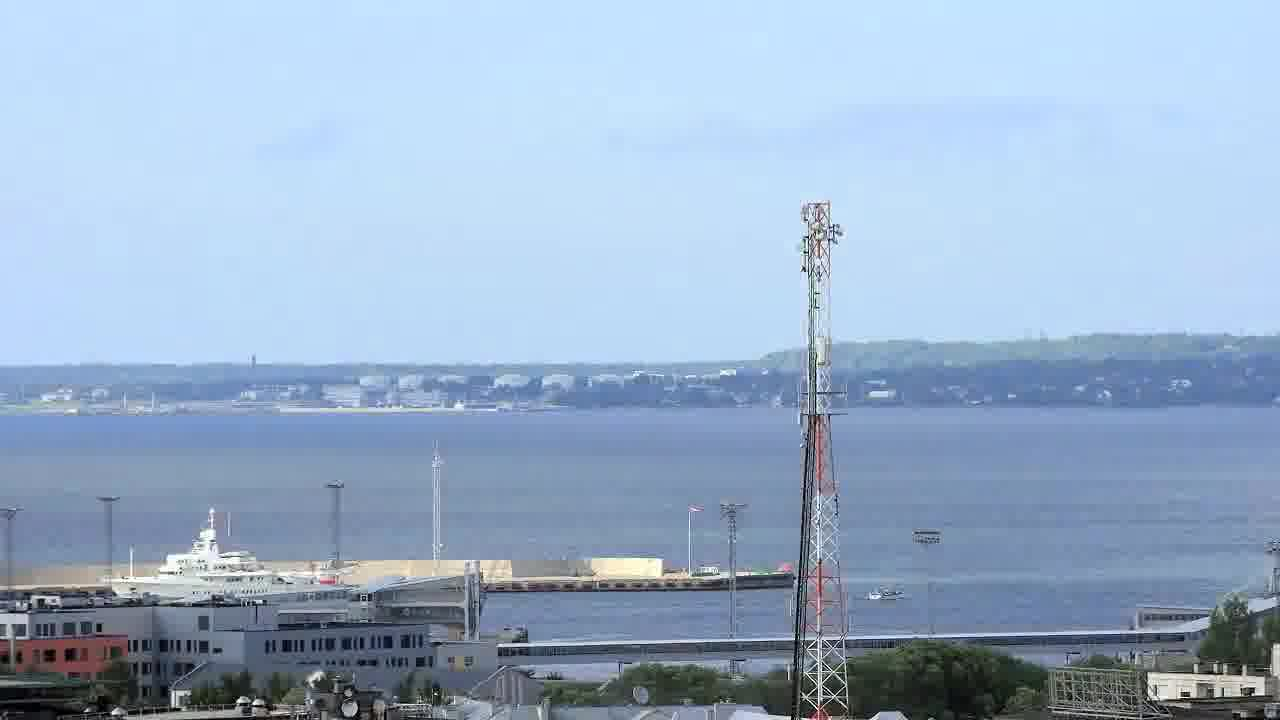type-0: (854, 572, 916, 611)
type-3: (88, 507, 346, 605)
